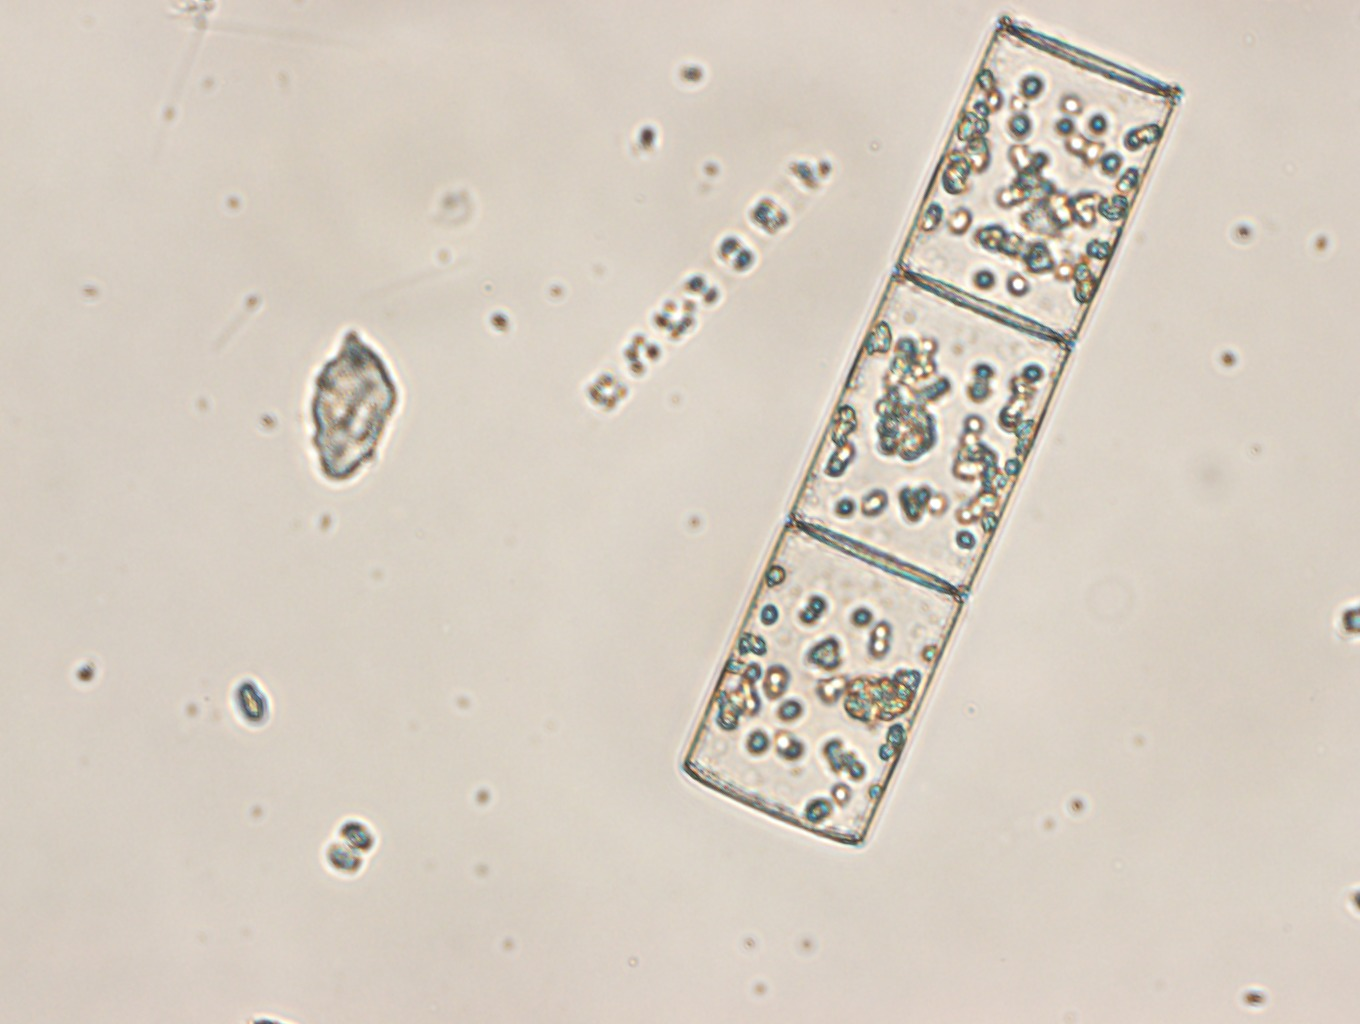guinardia flaccida: (679, 14, 1183, 848)
